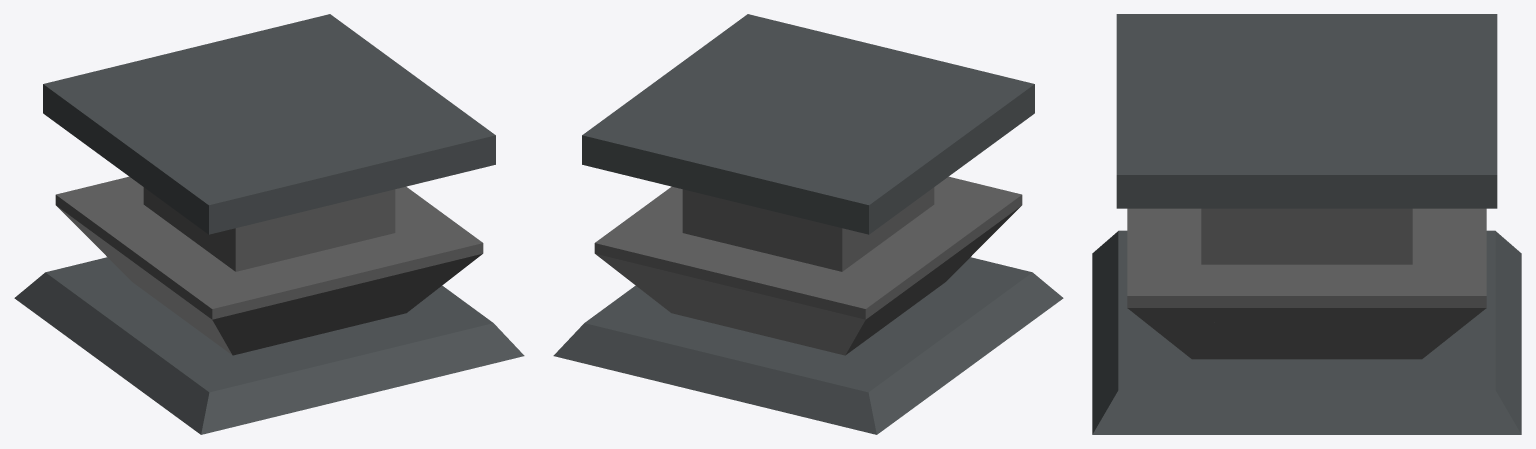
File: PlinthSplit.fbx
3 views of the same model, side by side, from view 1: azimuth 30°, elevation 25°; view 2: azimuth 150°, elevation 25°; view 3: azimuth 270°, elevation 25° (orthographic). The views are drawn at different scales.
Visible parts, largest first — view 1: Statue1, Statue0, Statue3, Statue2; view 2: Statue1, Statue2, Statue0, Statue3; view 3: Statue1, Statue3, Statue0, Statue2.
Boxes of the visible parts, box(x1,y1,x2,y2) form: Statue1: box(14, 254, 524, 434); Statue0: box(55, 176, 483, 338); Statue3: box(209, 14, 495, 234); Statue2: box(43, 14, 329, 234); Statue1: box(553, 247, 1063, 434); Statue2: box(582, 84, 1034, 260); Statue0: box(594, 176, 1022, 341); Statue3: box(582, 14, 1033, 135); Statue1: box(1092, 230, 1521, 434); Statue3: box(1116, 14, 1497, 208); Statue0: box(1127, 208, 1486, 329); Statue2: box(1117, 14, 1497, 209).
Bounding box in the file's own units: 1.63 × 1.05 × 1.63.
Materials: 1 (1 with a texture image).
